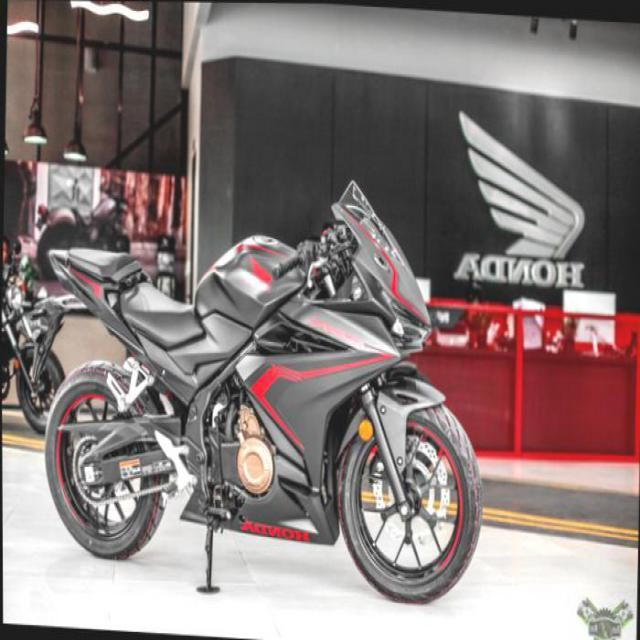CBR500R: (39, 159, 490, 606)
